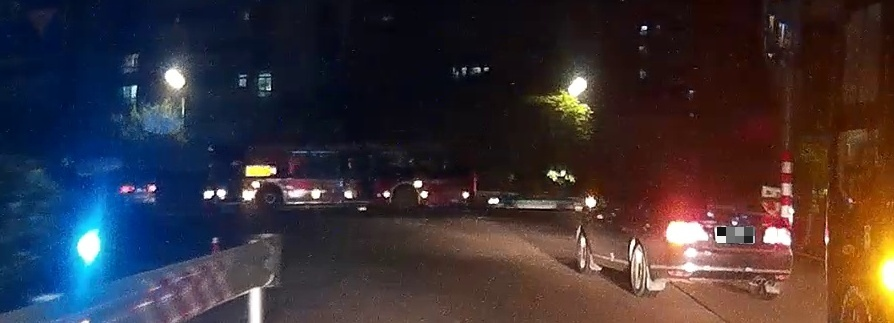L_light: (664, 221, 710, 245)
R_light: (763, 226, 793, 246)
T_light: (708, 204, 736, 210)
night-left: (665, 181, 793, 299)
plate_1: (717, 227, 755, 243)
